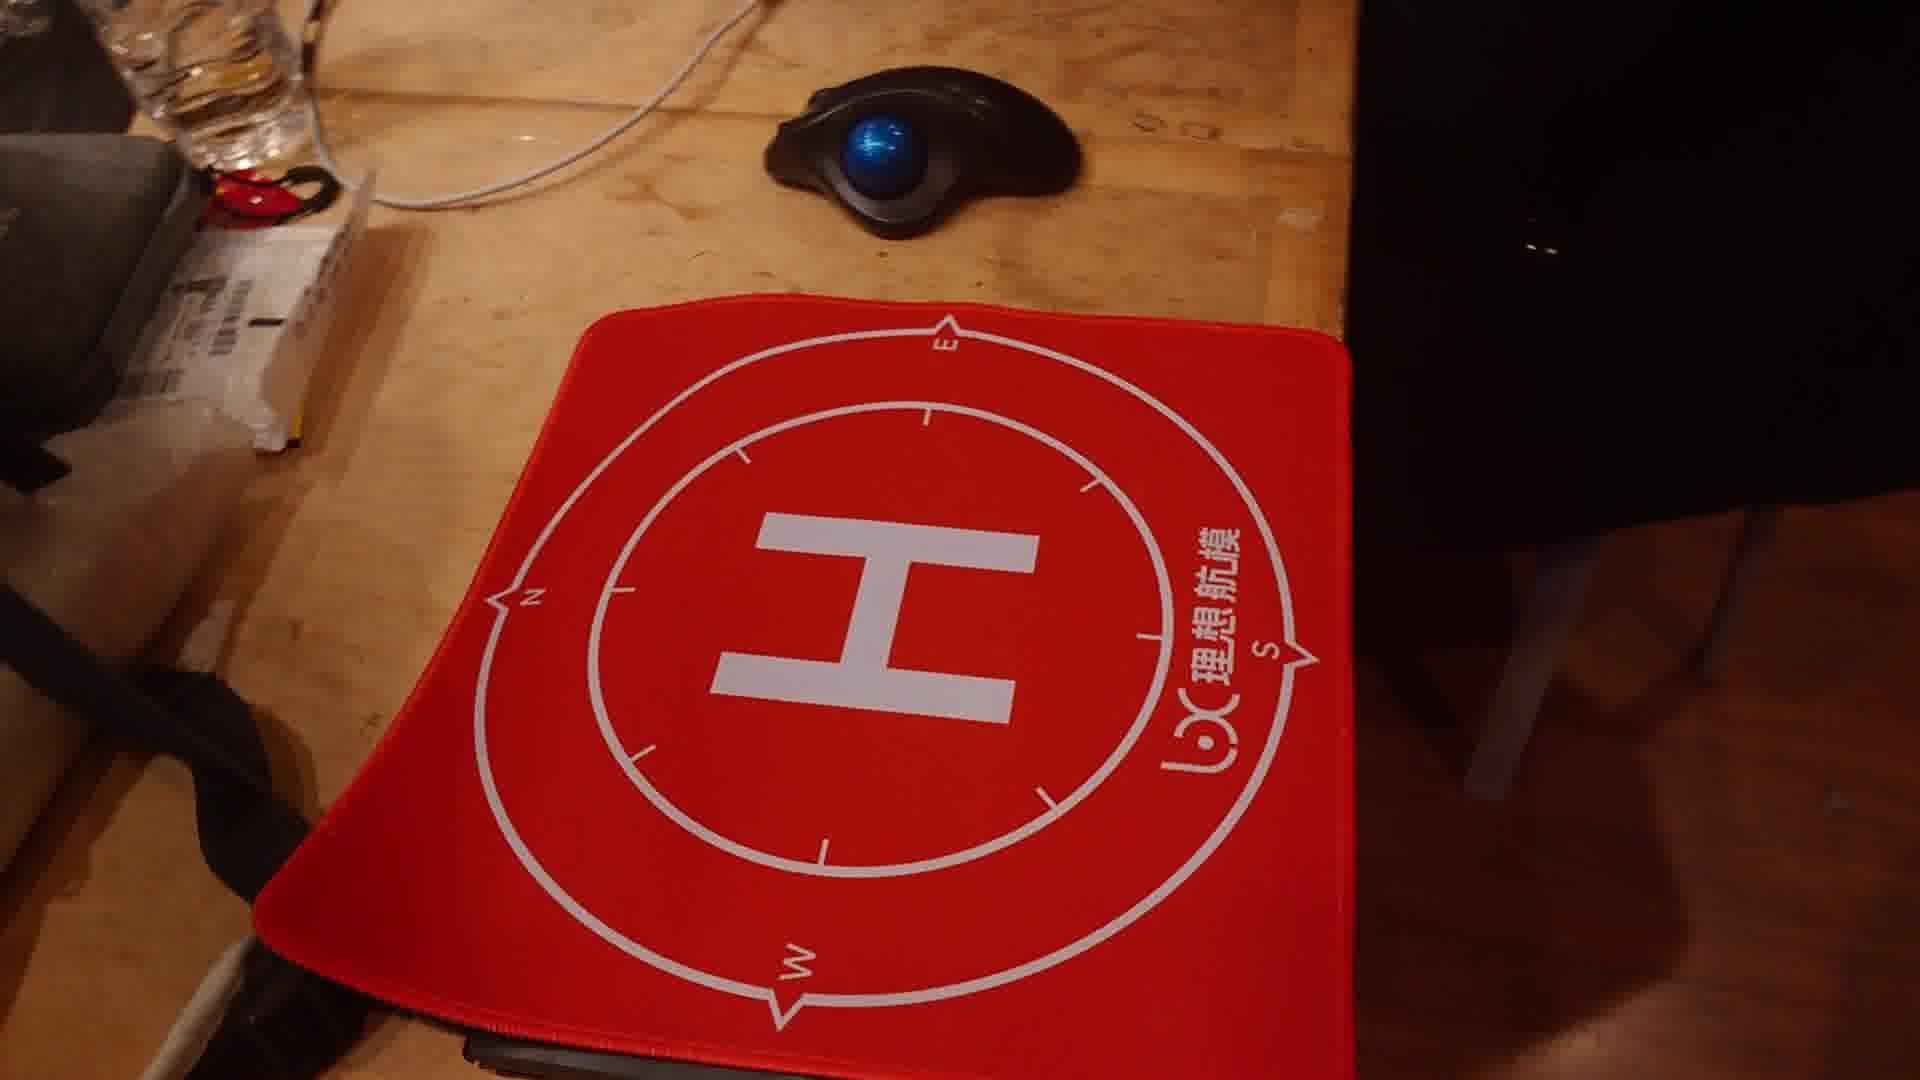H: (708, 510, 1043, 728)
